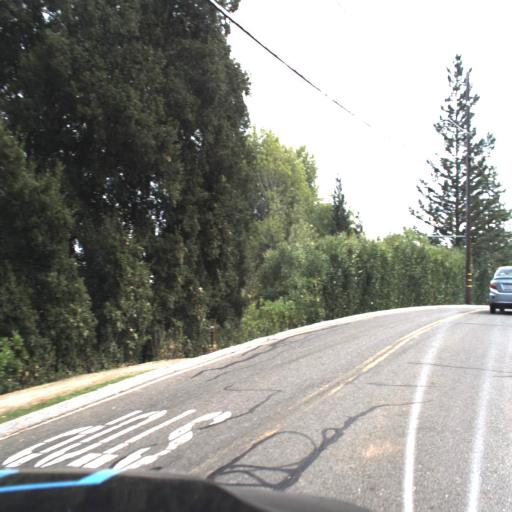car: (480, 259, 510, 317)
